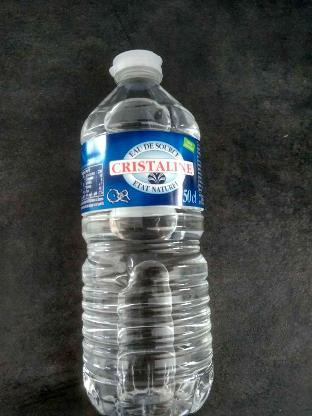Plastic Bottle: (80, 49, 214, 415)
